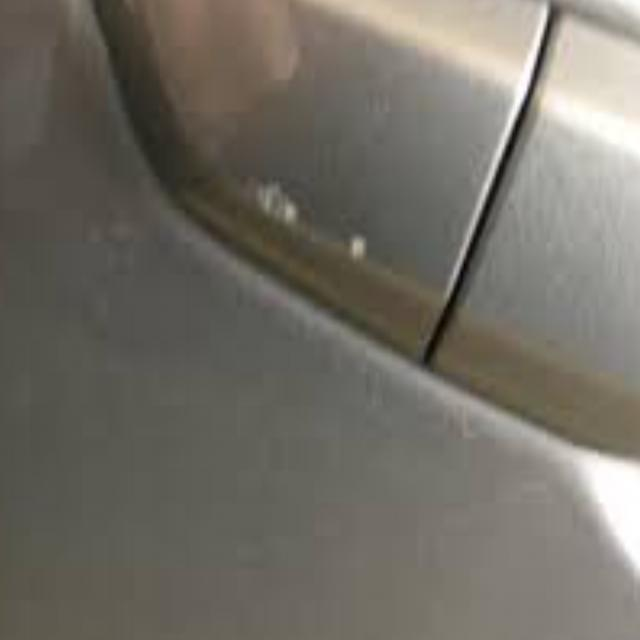dents: (225, 118, 384, 289)
